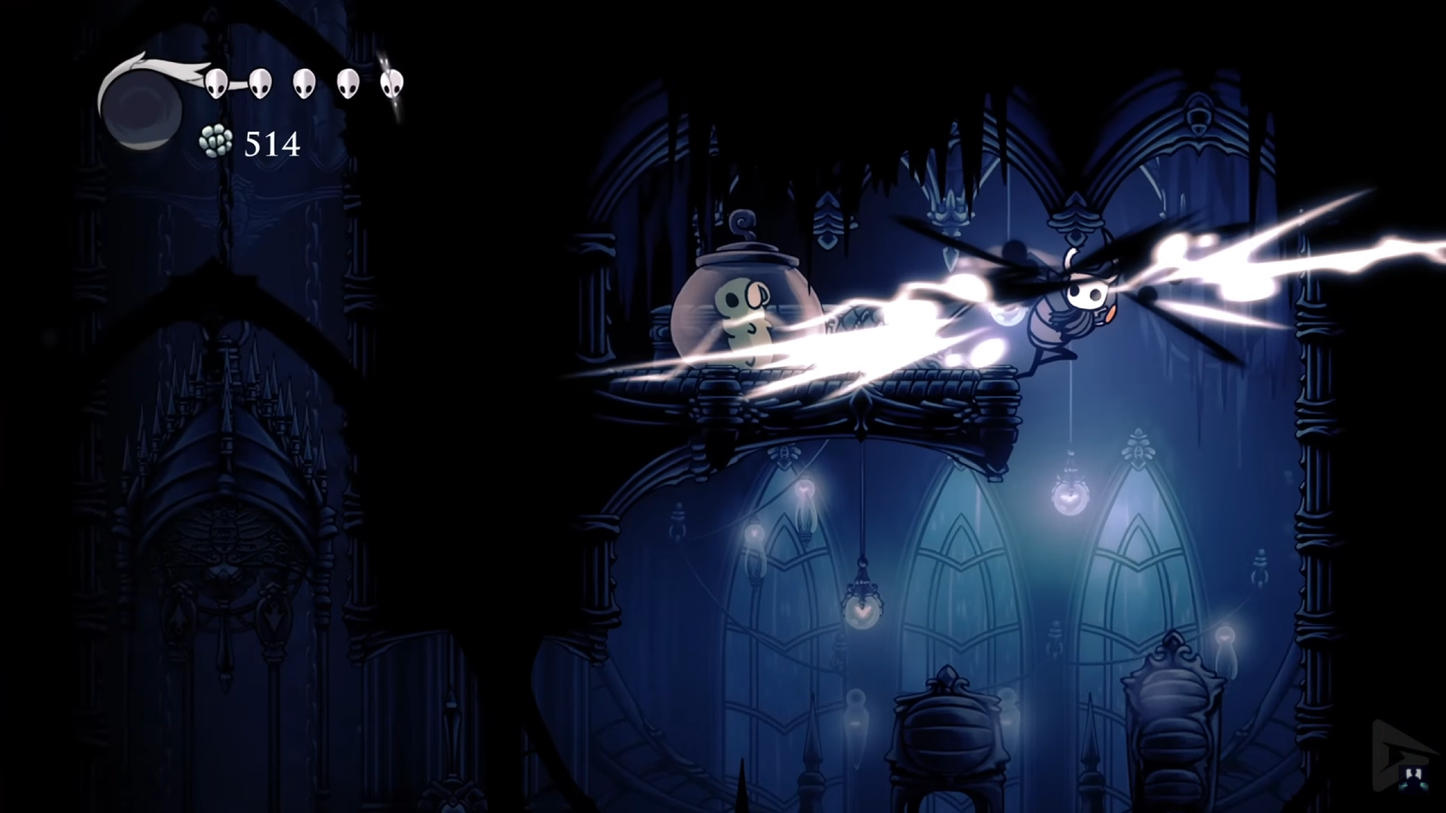HK: (1052, 243, 1117, 349)
